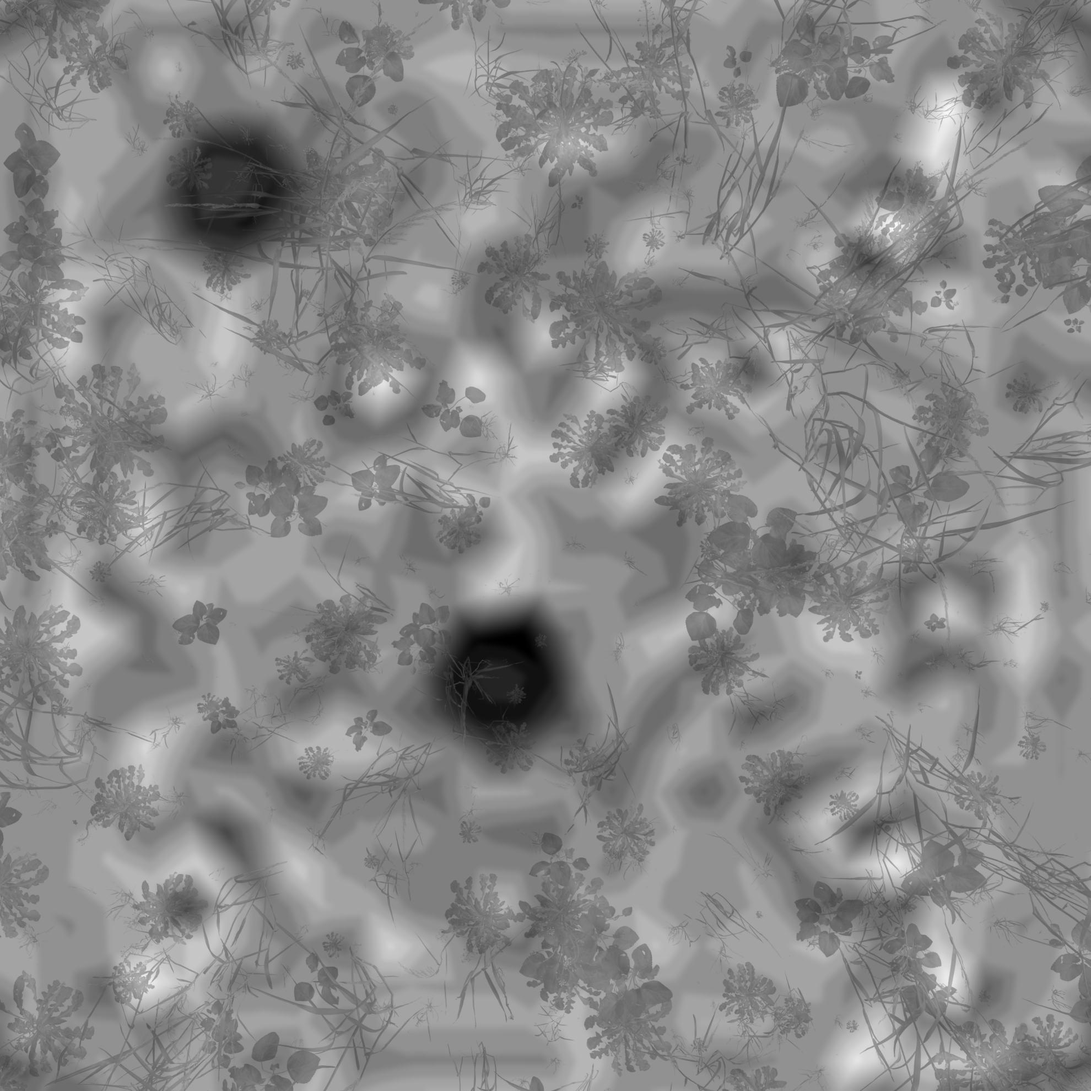landmine: (433, 600, 580, 758), (168, 126, 299, 252)
